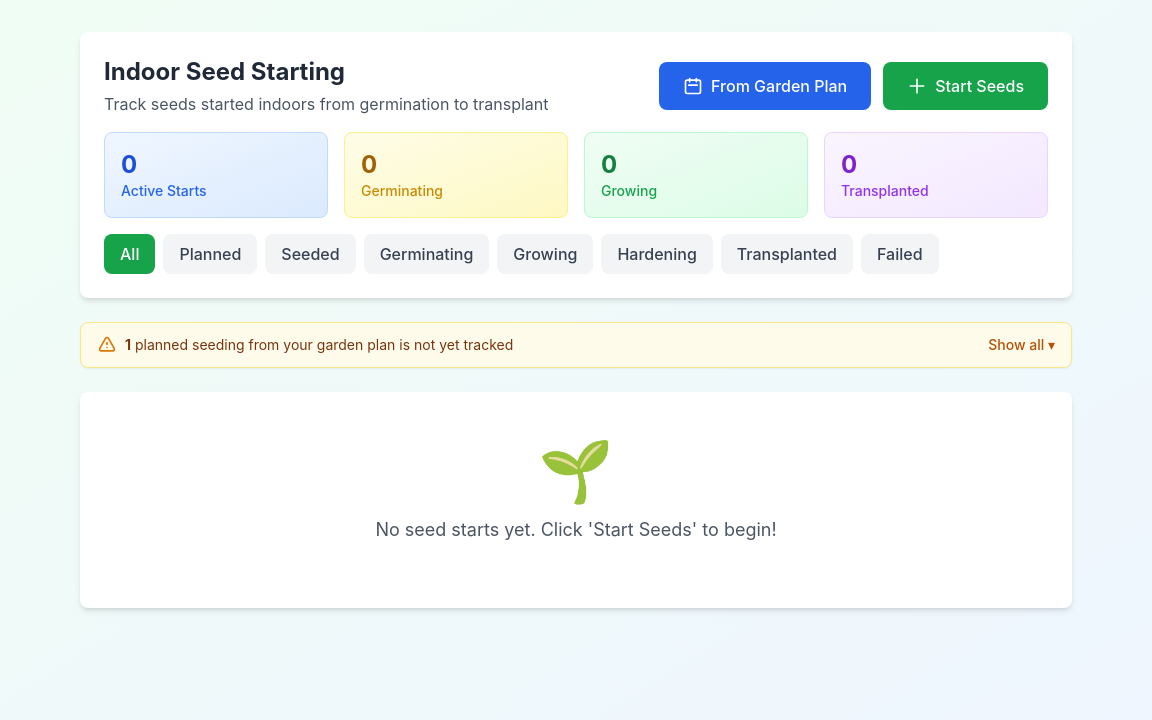
Test: IndoorSeedStarts — plan-only seedings banner › filter-mismatch toast: when filter is non-planned, success toast says "Now tracking — visible under Planned"
The width and height of the screenshot is (1152, 720).
Click the button "Germinating" at (426,254), box [364,234,489,274]
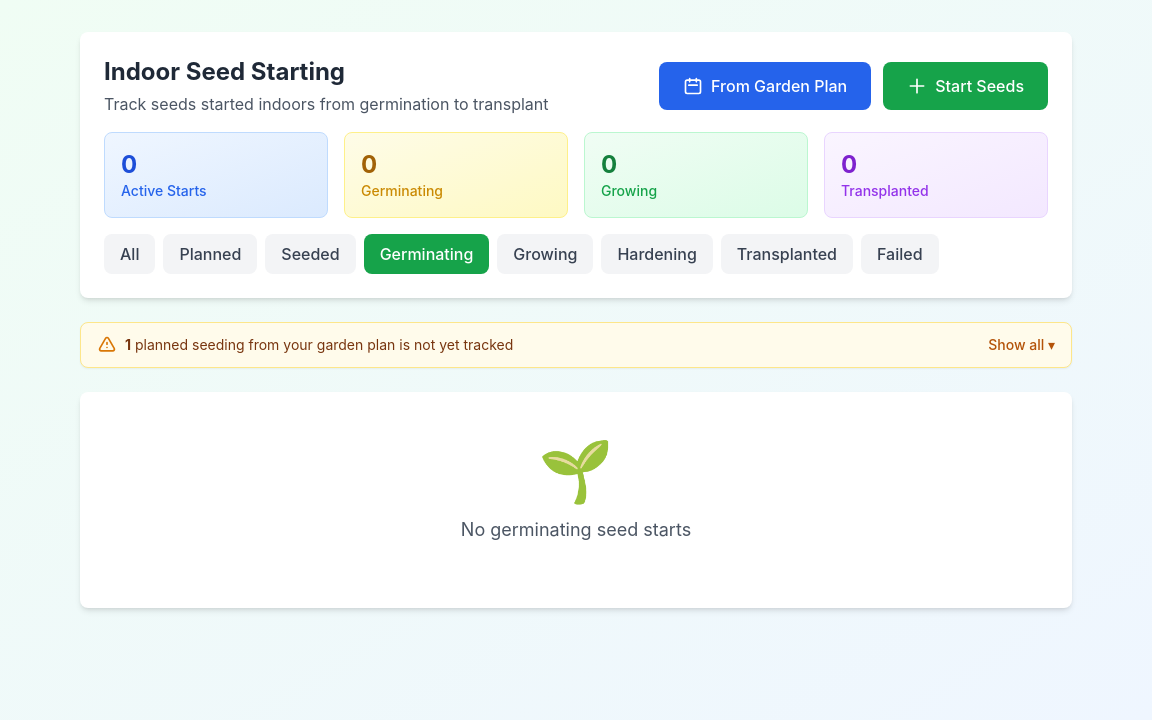
Click the button "Show all ▾" at (1022,345), box [988,335,1055,355]
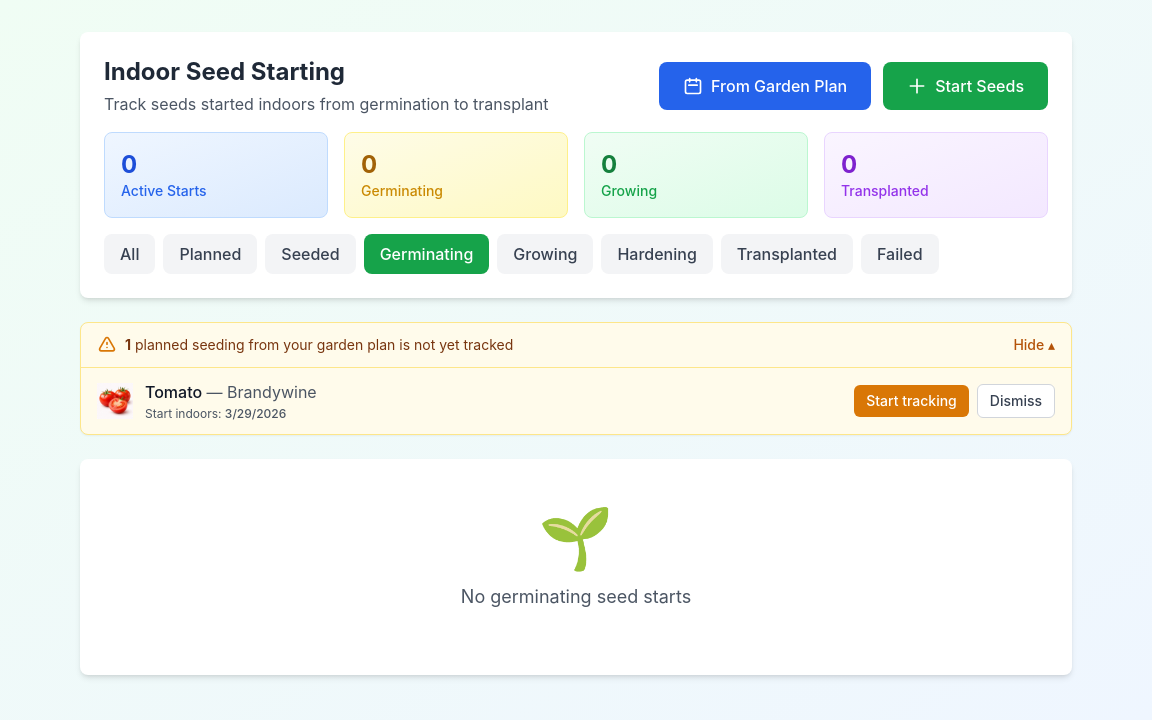
Click the button "Start tracking" at (912,401), box [854,385,969,417]
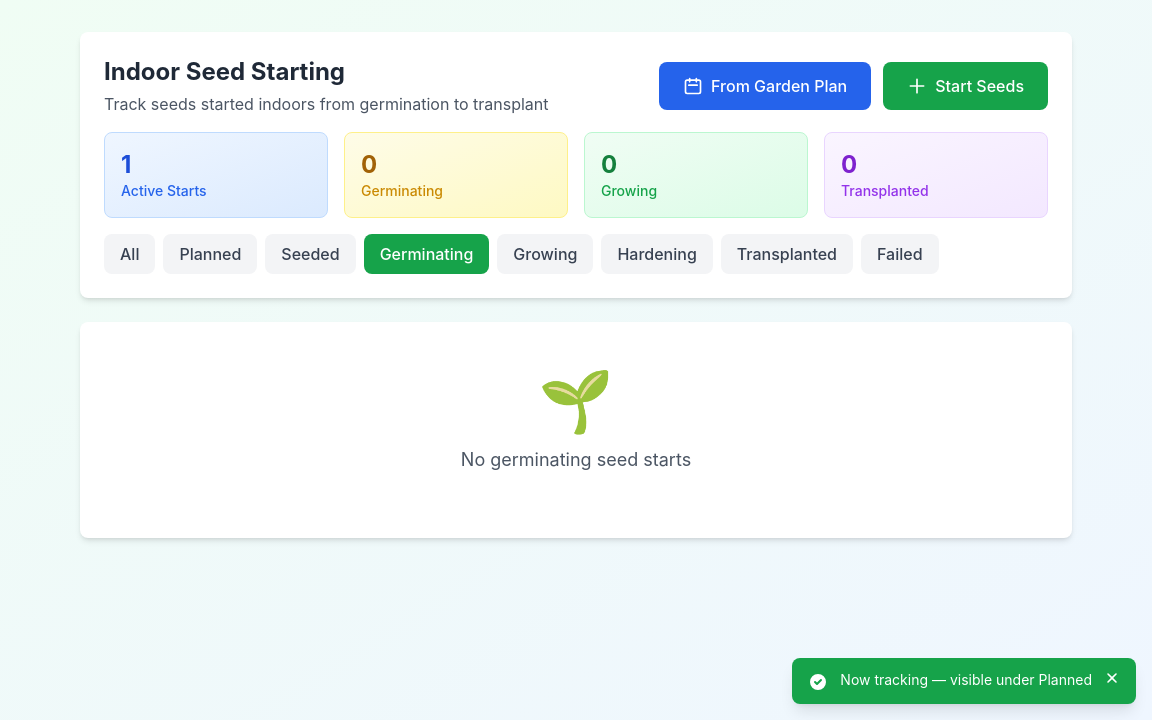
Expected: the element with test id "toast-success" reads "Now tracking — visible under Planned", [840,671,1092,688]
